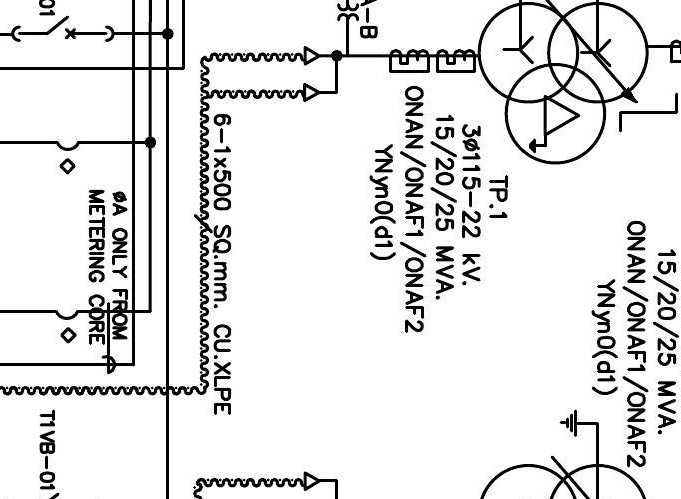11522_tx_ynyn0d1: (476, 1, 650, 166)
22_breaker: (11, 15, 115, 43)
terminator_double: (303, 45, 339, 103)
